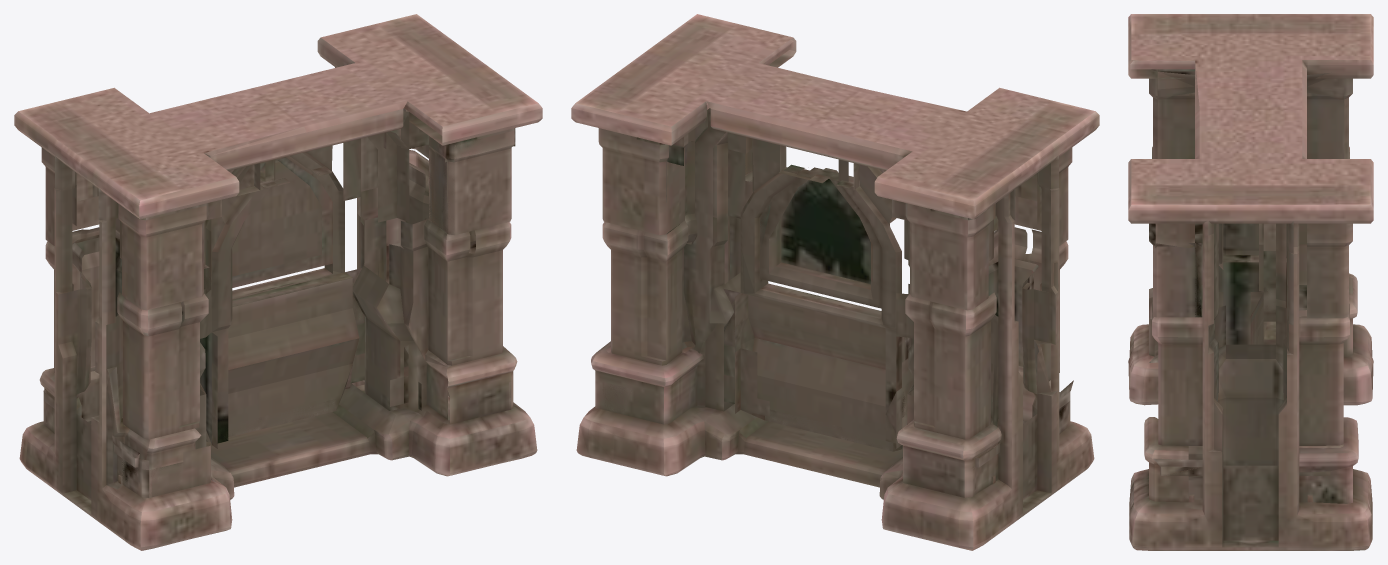
The model's file is portal_gothic.glb.
3 views of the same model, side by side, from view 1: azimuth 30°, elevation 25°; view 2: azimuth 150°, elevation 25°; view 3: azimuth 270°, elevation 25° (orthographic).
Size of the model in its own units: 1.91 by 1.6 by 1.02.
1 material, 1 textured.
